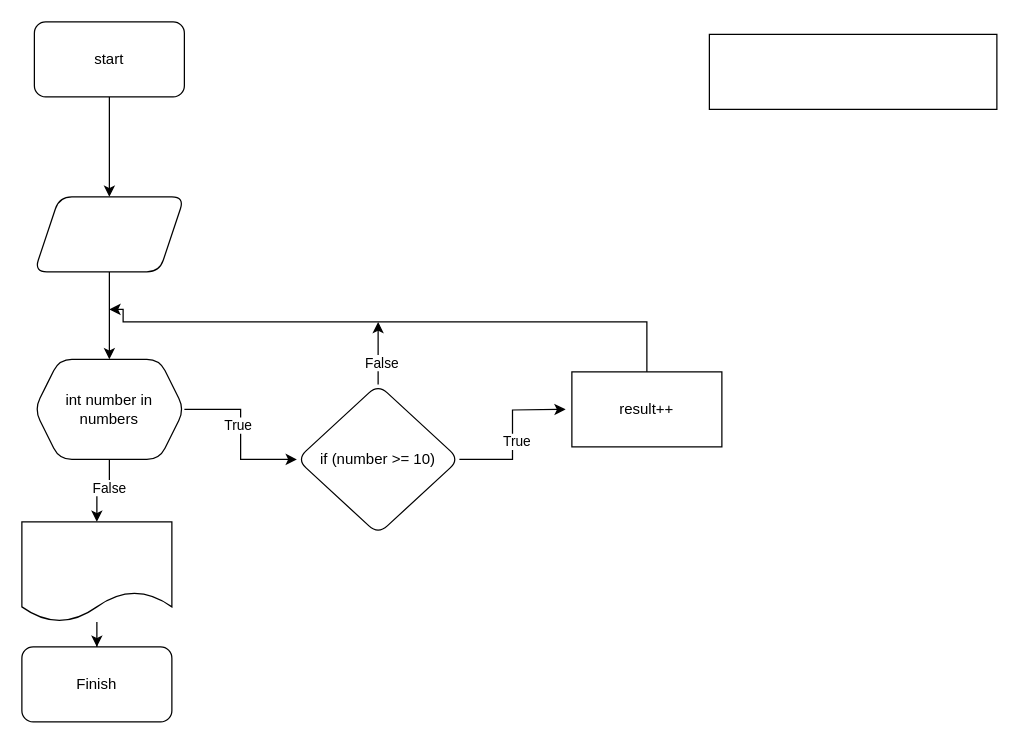
Image size: 1019x744. Some labels were removed from this diagram. Each missing label, with the centre of its shape:
numbers, result: point (108, 234)
result: point (96, 571)
Task 2: point (852, 71)
